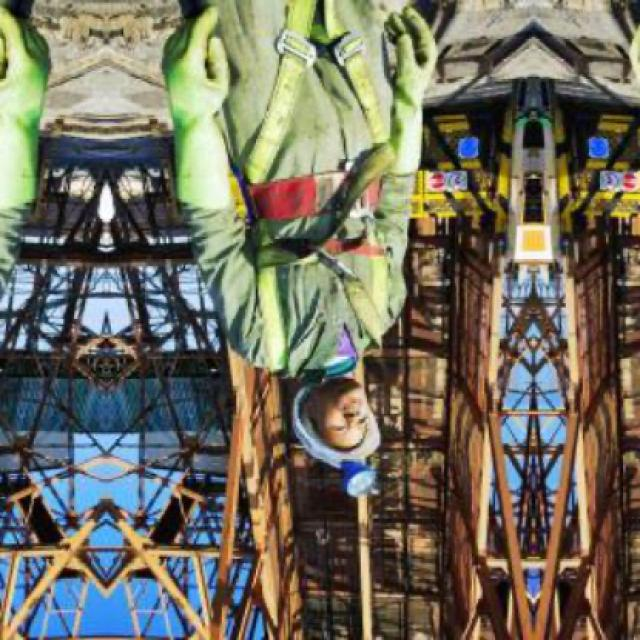con casco: (291, 340, 389, 499)
